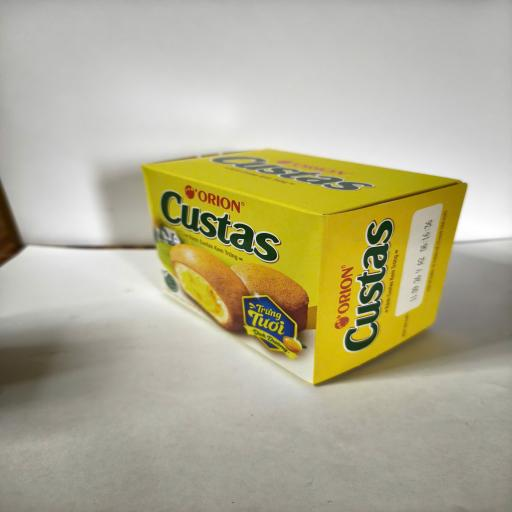custas: (140, 148, 468, 386)
